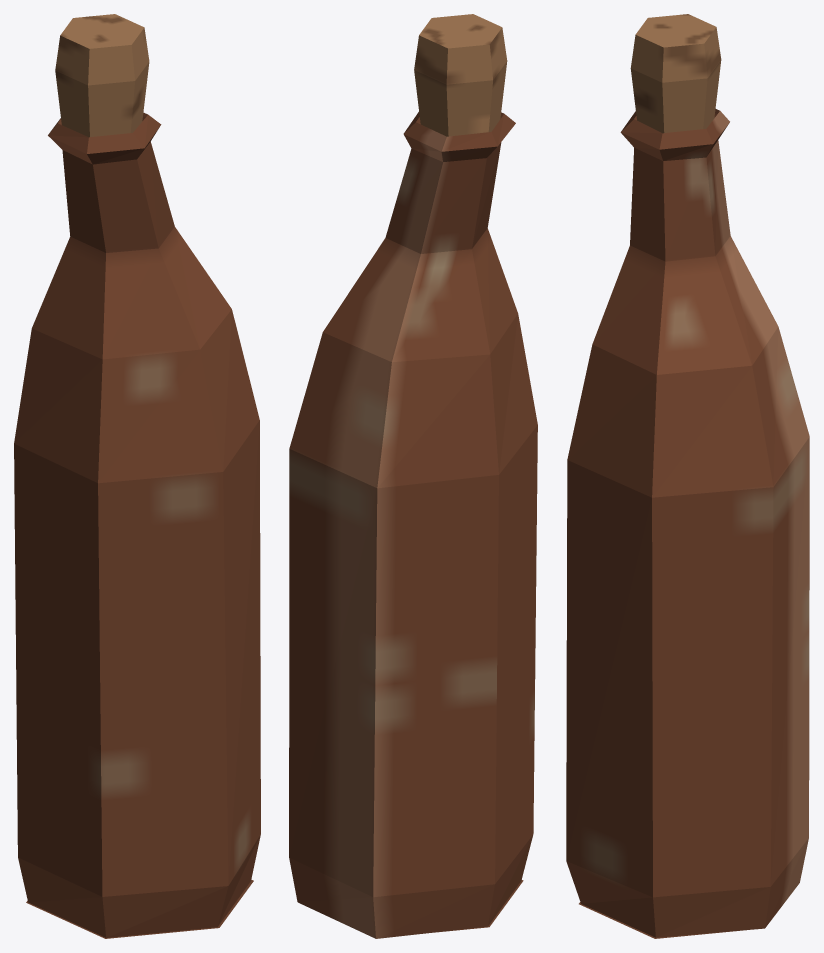
File: SM_PR07_BottleTall.fbx
The picture shows the model from 3 angles, left to right: view 1: azimuth 30°, elevation 25°; view 2: azimuth 150°, elevation 25°; view 3: azimuth 270°, elevation 25°; orthographic projection. The views are drawn at different scales.
Parts seen in each view (by area): view 1: PR07_Bottle; view 2: PR07_Bottle; view 3: PR07_Bottle.
Boxes of the visible parts, x1,y1,x2,y2 form: PR07_Bottle: [14, 14, 260, 938]; PR07_Bottle: [289, 14, 537, 938]; PR07_Bottle: [566, 14, 809, 938].
Bounding box in the file's own units: 0.0955 × 0.38 × 0.0996.
